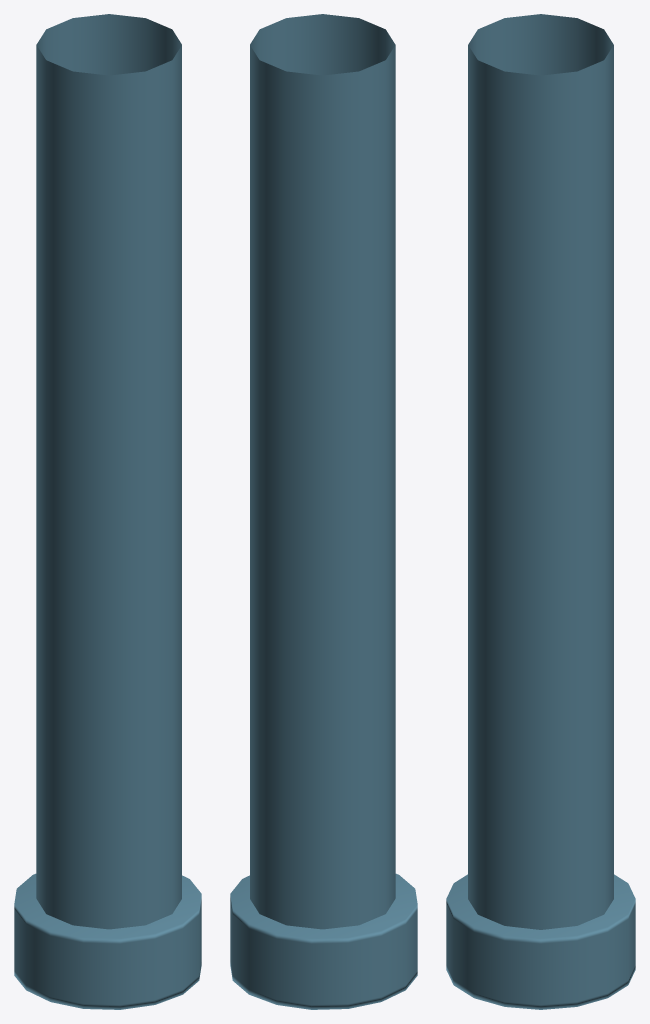
The model's file is Pipe_01.fbx.
3 renders of one model, left to right at view 1: azimuth 30°, elevation 25°; view 2: azimuth 150°, elevation 25°; view 3: azimuth 270°, elevation 25°, orthographic.
Visible parts, largest first — view 1: Pipe1; view 2: Pipe1; view 3: Pipe1.
Part boxes in pixels (bbox=[...]): Pipe1: bbox=[14, 14, 201, 1009]; Pipe1: bbox=[230, 14, 417, 1009]; Pipe1: bbox=[446, 14, 635, 1009].
Size of the model in its own units: 42.75 by 231 by 42.75.
